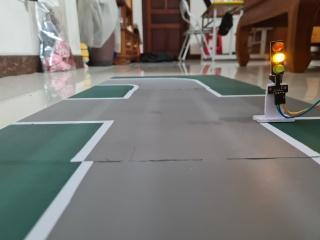yellow: (262, 34, 297, 86)
